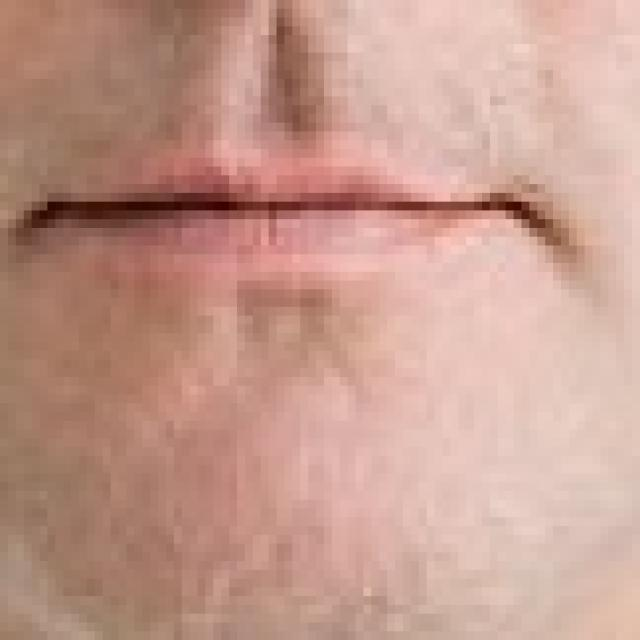closed-mouth: (8, 166, 569, 264)
